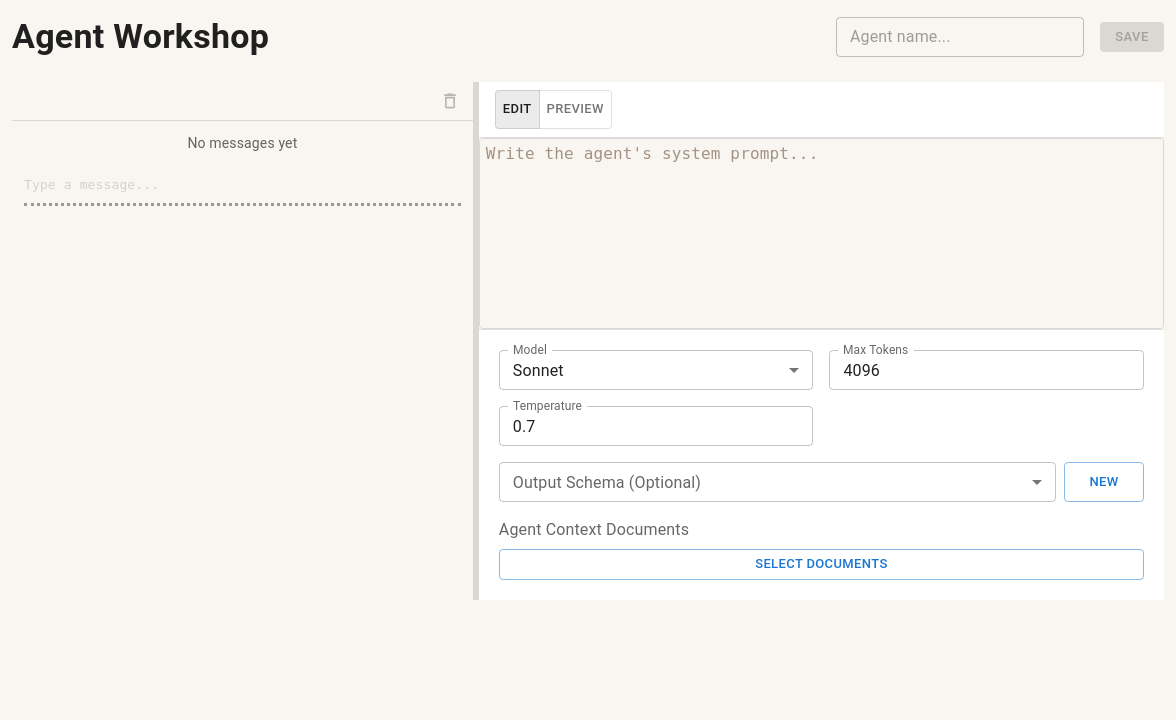
it: AgentWorkshopPage › enables save when name is filled
In the field with placeholder "Agent name...": (960, 37) x1=836 y1=17 x2=1084 y2=57, type "MyAgent"
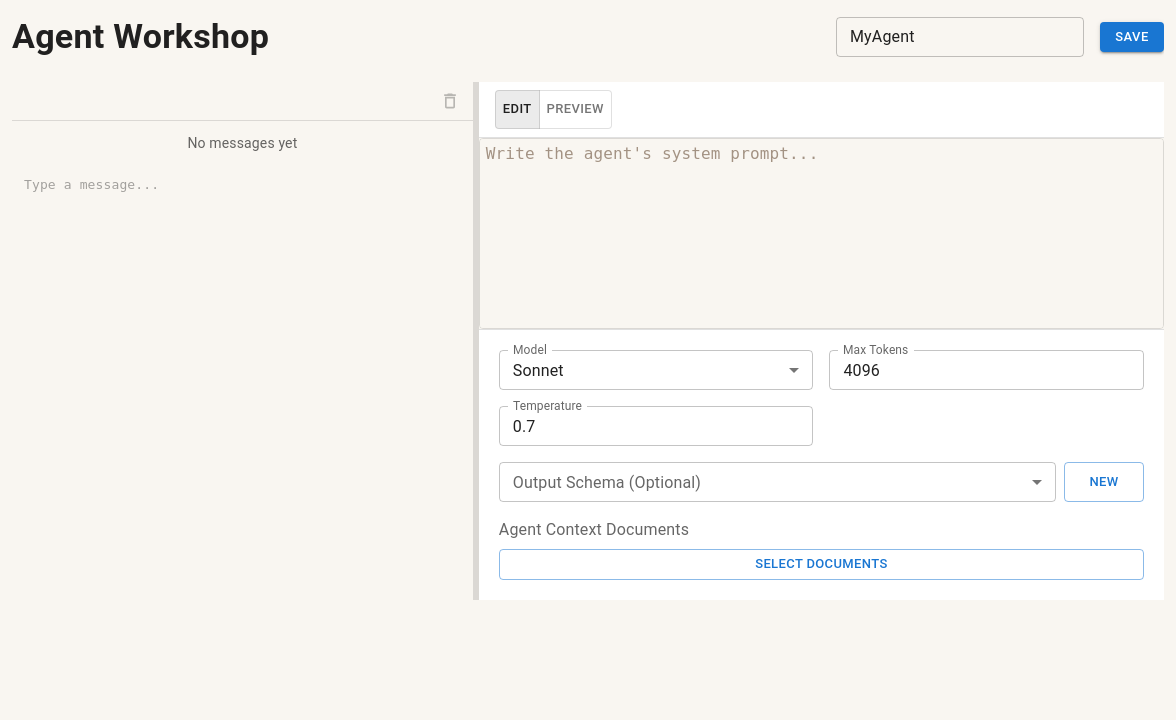
Now the button "Save" is enabled, box x1=1100 y1=22 x2=1164 y2=52
